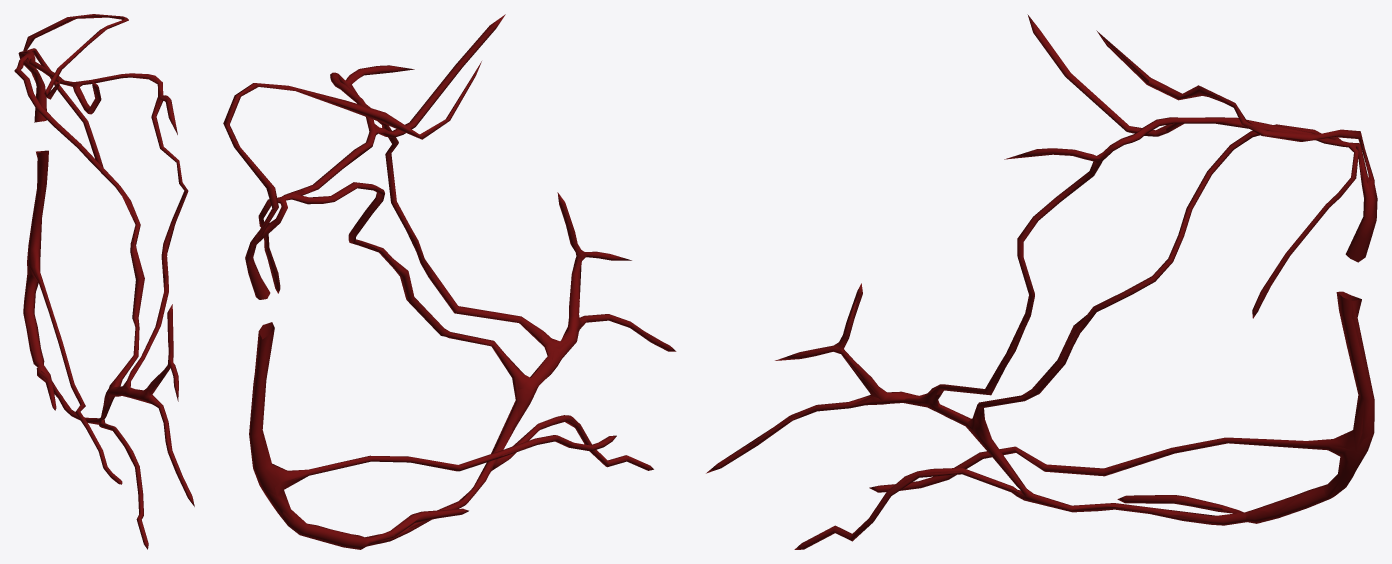
Rendered from L truncus linguofacialis.fbx.
3 views of the same model, side by side, from view 1: azimuth 30°, elevation 25°; view 2: azimuth 150°, elevation 25°; view 3: azimuth 270°, elevation 25° (orthographic). The views are drawn at different scales.
Visible parts, largest first — view 1: L truncus linguofacialis, L truncus linguofacialis low; view 2: L truncus linguofacialis, L truncus linguofacialis low; view 3: L truncus linguofacialis, L truncus linguofacialis low.
Boxes of the visible parts, left/top/right/bottom form: L truncus linguofacialis: left=14, top=14, right=194, bottom=549; L truncus linguofacialis low: left=19, top=14, right=188, bottom=512; L truncus linguofacialis: left=223, top=14, right=676, bottom=549; L truncus linguofacialis low: left=224, top=61, right=670, bottom=546; L truncus linguofacialis: left=706, top=14, right=1377, bottom=549; L truncus linguofacialis low: left=723, top=30, right=1377, bottom=539.
Size of the model in its own units: 6.87 by 17.59 by 19.3.
